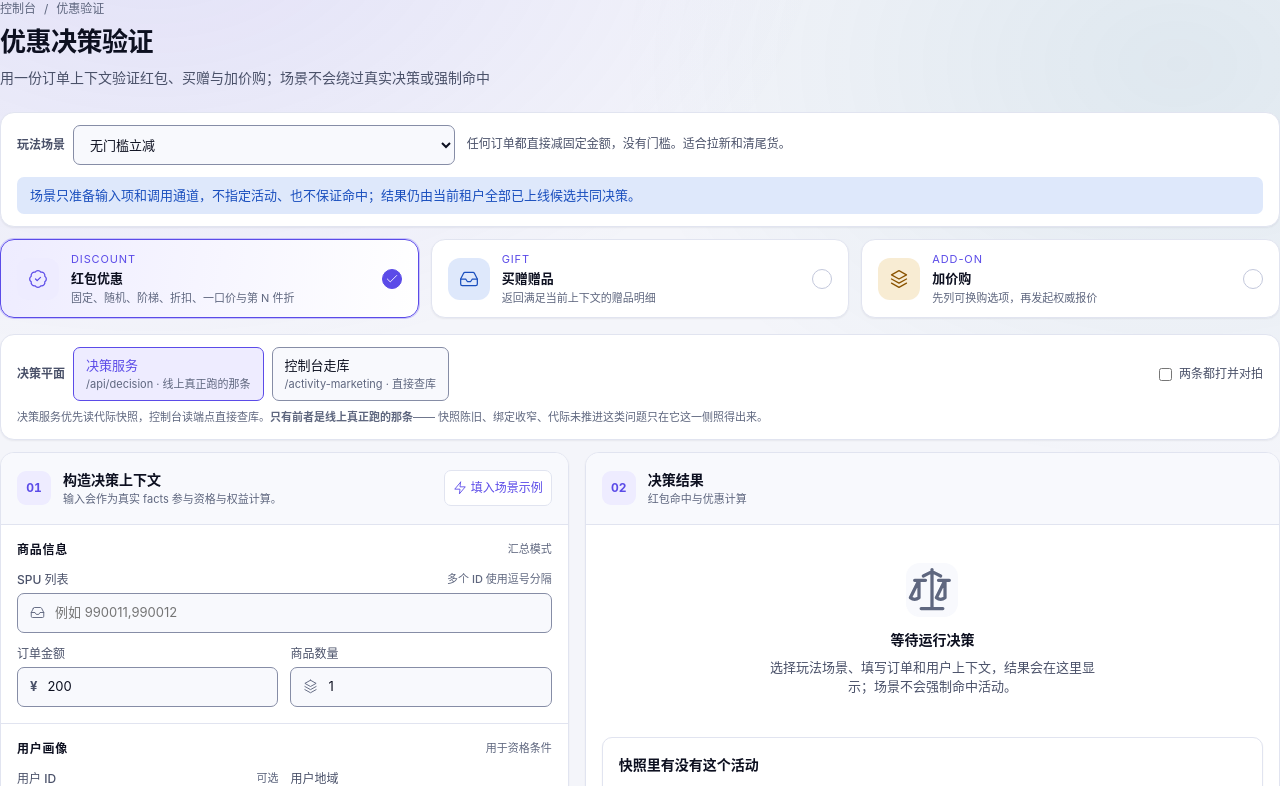
Test: ValidateView › 加价购按 options → 用户选择 → quote 两阶段执行，并明示不占库存
Select "加价购" in the dropdown with test id "v-scenario" at (264, 144), box [73,124,455,164]
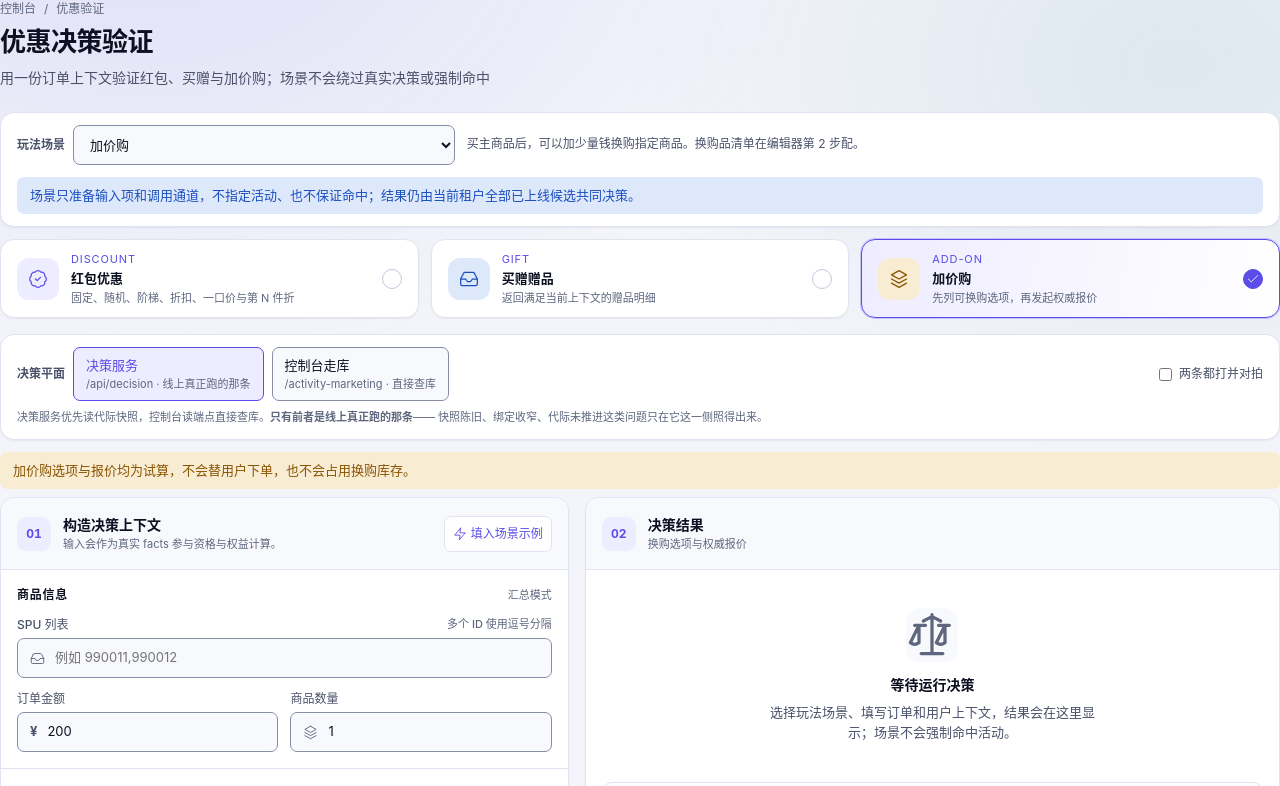
Type "990011" into the field with test id "v-spu" at (296, 658), box [53,647,539,669]
(page scrolled)
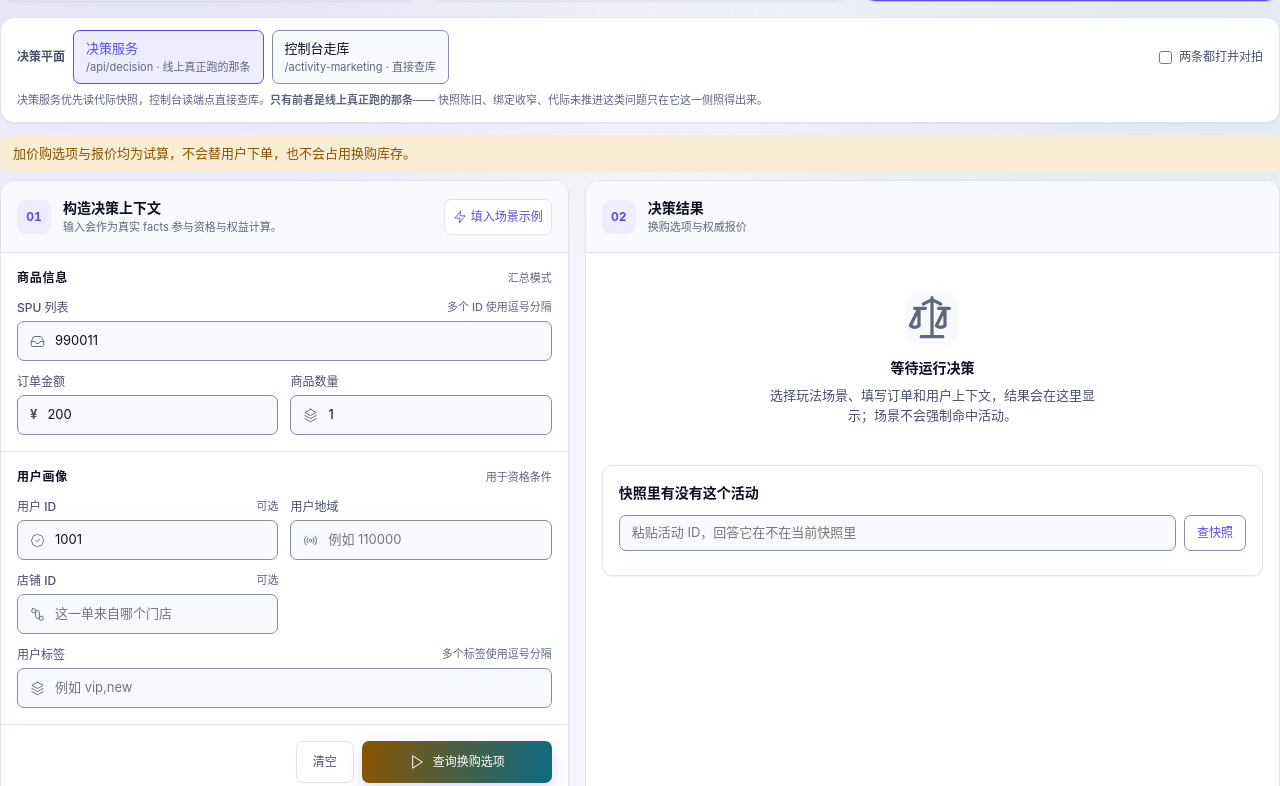
Check: the text with test id "v-inventory-note" shows "不会占用换购库存", box [13,145,416,161]
Click the button with test id "v-addon-options" at (457, 762), box [362,741,552,783]
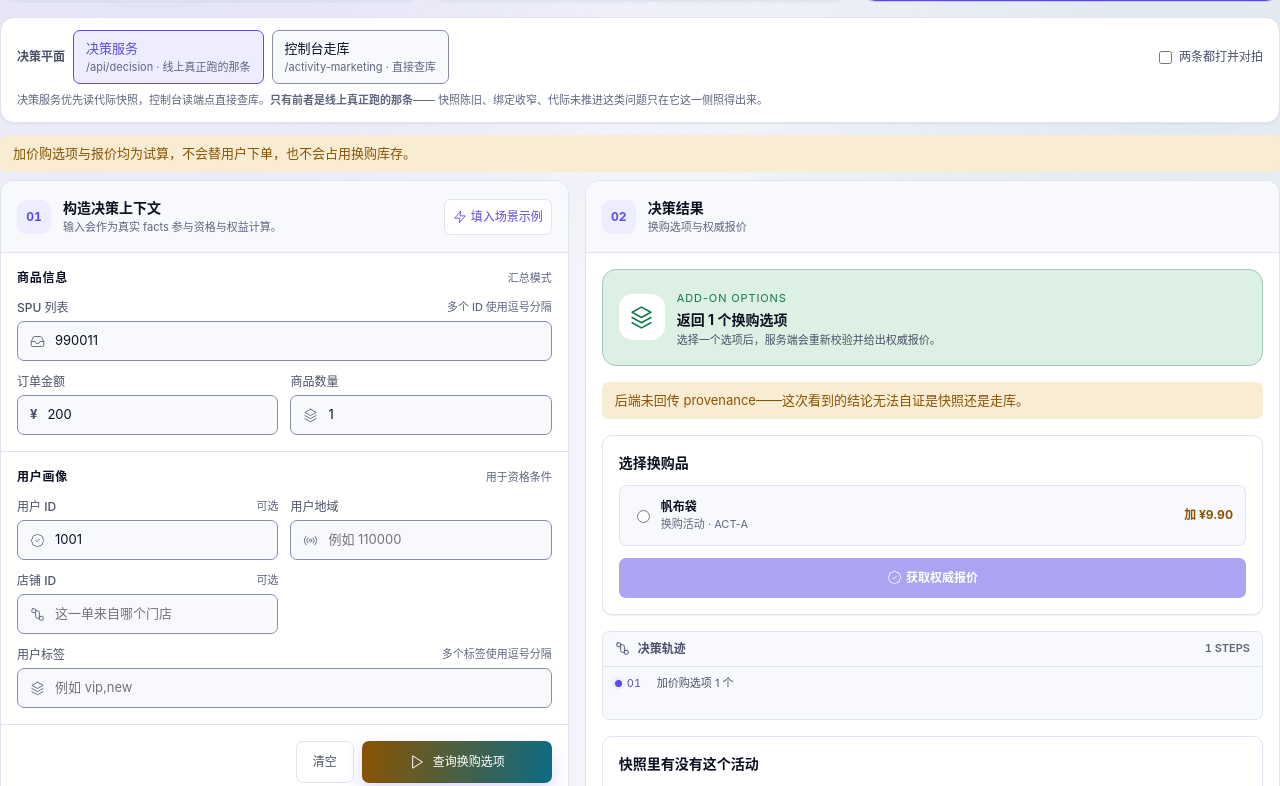
Check: the element with test id "validate-result" shows "返回 1 个换购选项", box [677,311,788,328]
Click the radio button with test id "v-addon-option-0" at (643, 517), box [637,510,650,523]
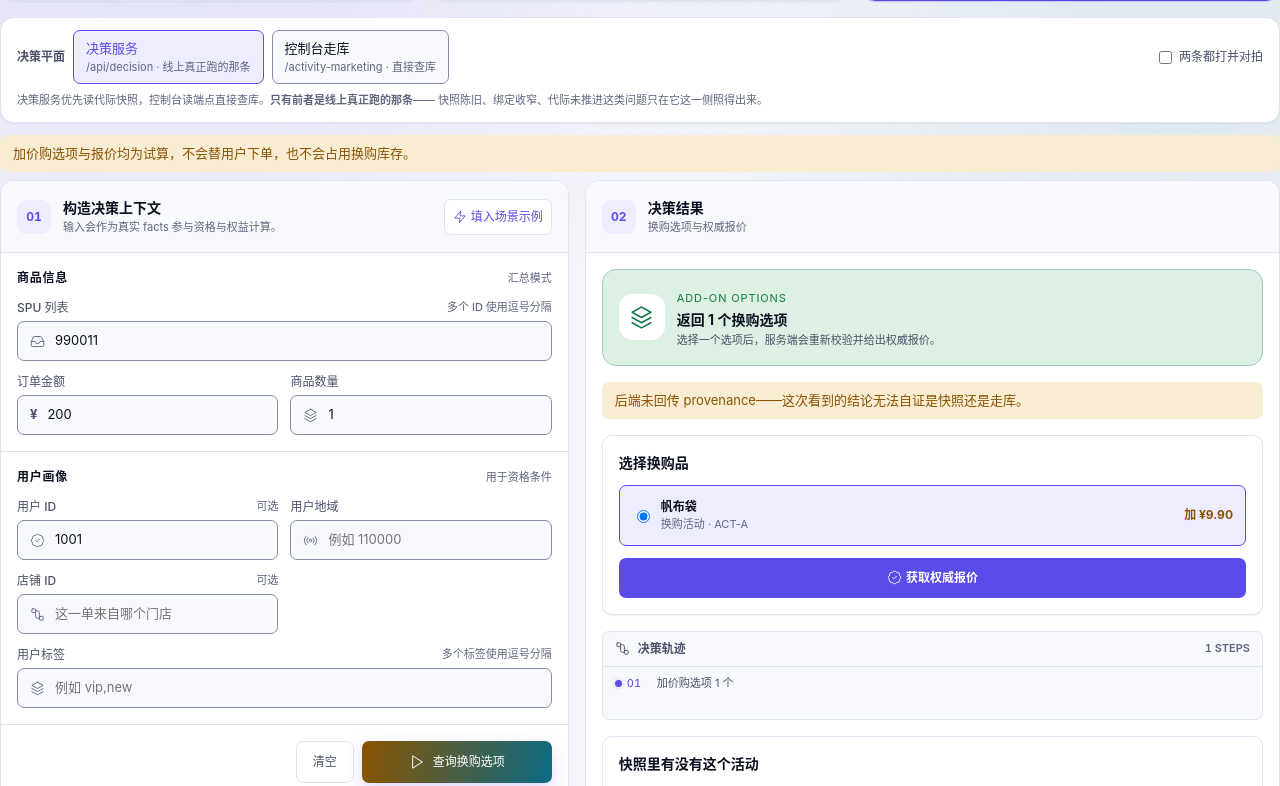
Click the button with test id "v-addon-quote" at (932, 578), box [619,558,1246,598]
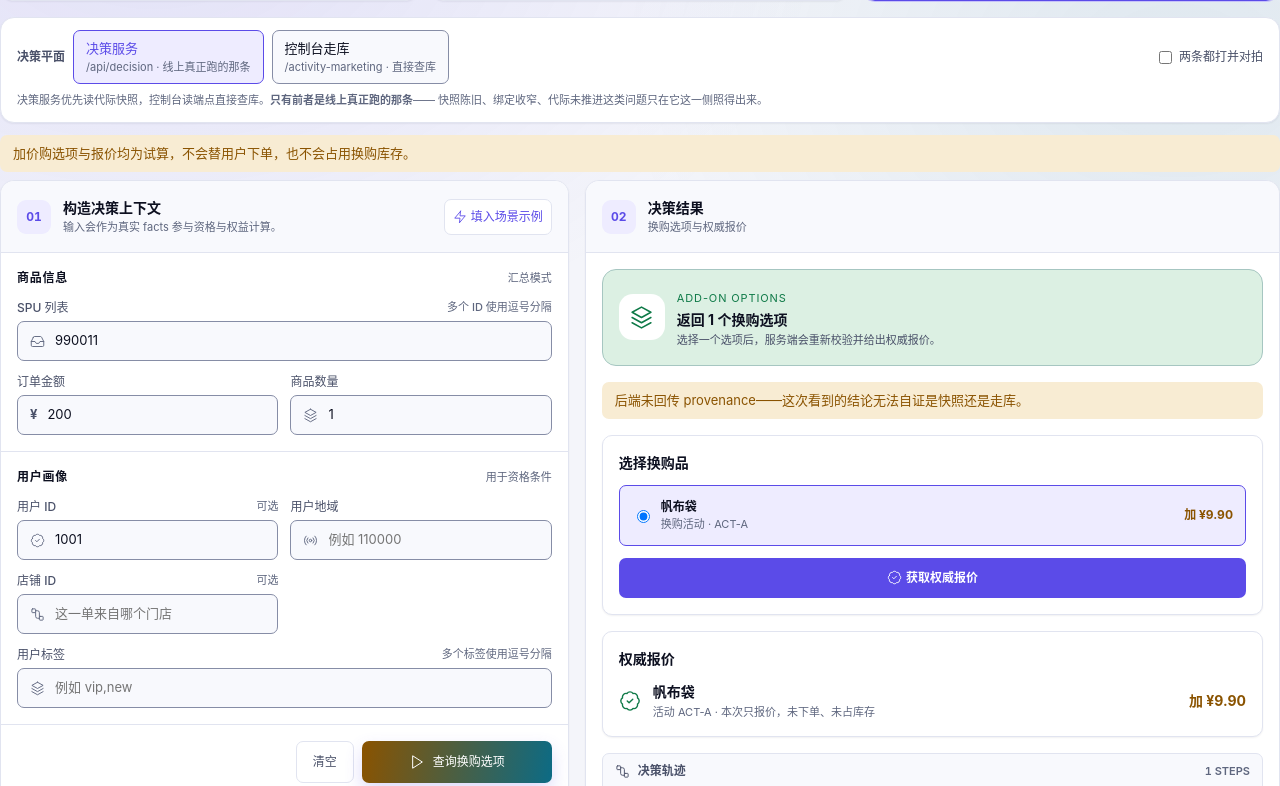
Check: the text "帆布袋" below "选择换购品" is shown, box [661,499,697,514]
Check: the element with test id "v-addon-quote-result" shows "9.90", box [1189,692,1246,709]
Check: the element with test id "v-addon-quote-result" shows "未占库存", box [653,705,875,719]
